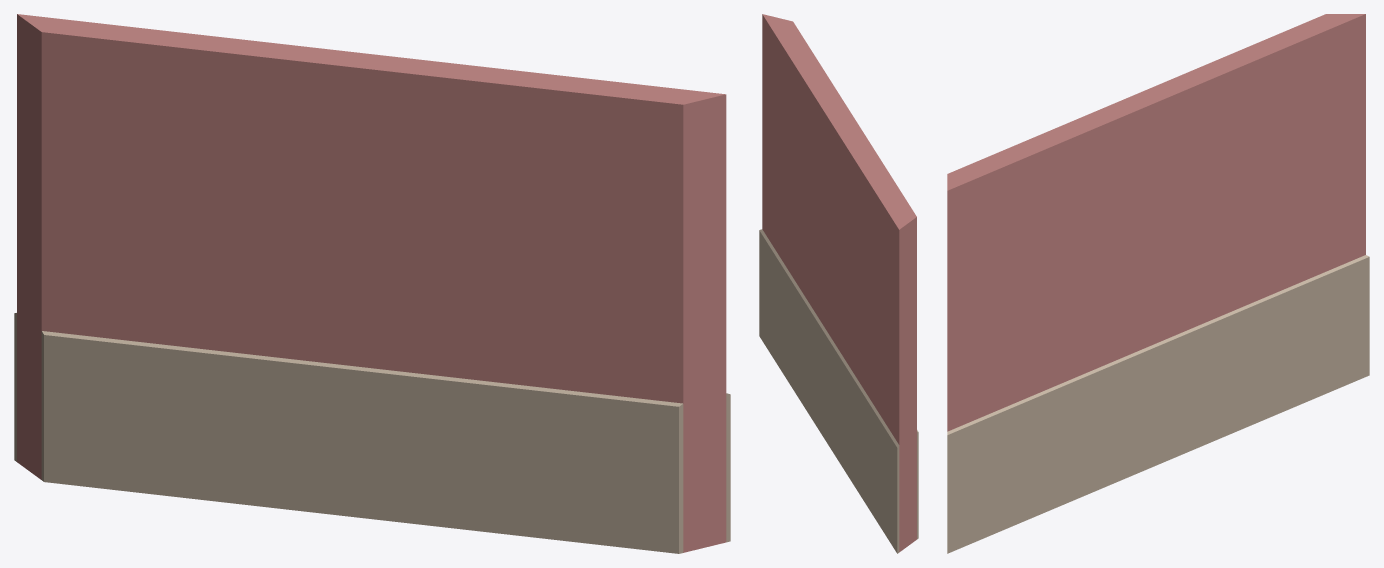
File: wall_4x4_base_diagonal.fbx
3 renders of one model, left to right at view 1: azimuth 30°, elevation 25°; view 2: azimuth 150°, elevation 25°; view 3: azimuth 270°, elevation 25°, orthographic. The views are drawn at different scales.
Visible parts, largest first — view 1: Cube; view 2: Cube; view 3: Cube.
Part boxes in pixels (bbox=[...]): Cube: bbox=[14, 14, 730, 553]; Cube: bbox=[759, 14, 918, 553]; Cube: bbox=[947, 14, 1369, 553].
Bounding box in the file's own units: 424 × 400 × 424.
